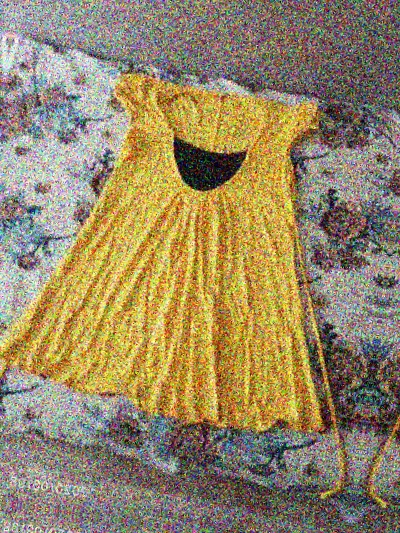Dress: (0, 24, 389, 466), (386, 82, 400, 524)
